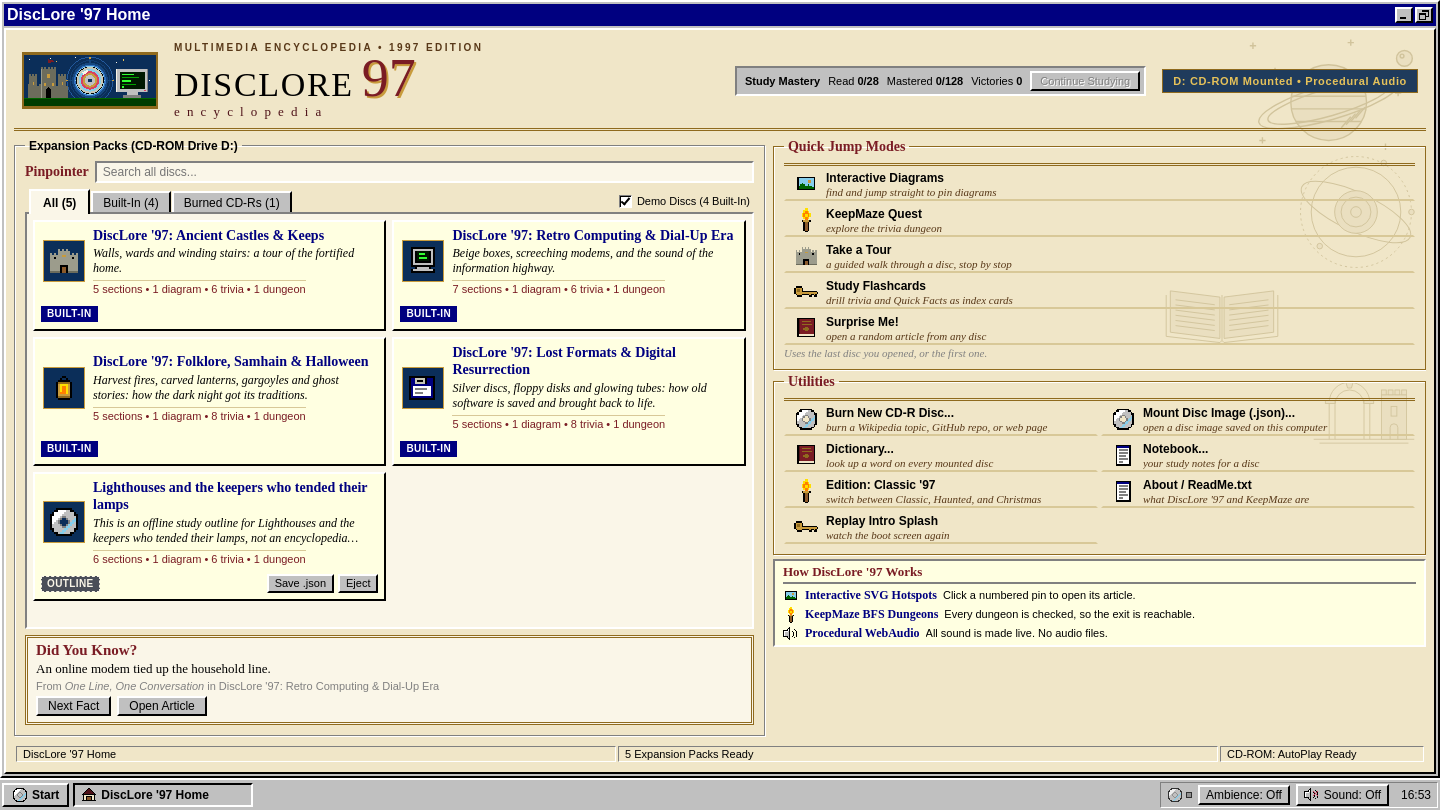
Test: turning Demo Discs off while a built-in disc is open › returns to Home from the View menu item, and forgets the built-in disc as the last one used
This screenshot has width=1440, height=810.
Click the text "DiscLore '97: Ancient Castles & Keeps".
click(209, 236)  # box [93, 228, 324, 244]
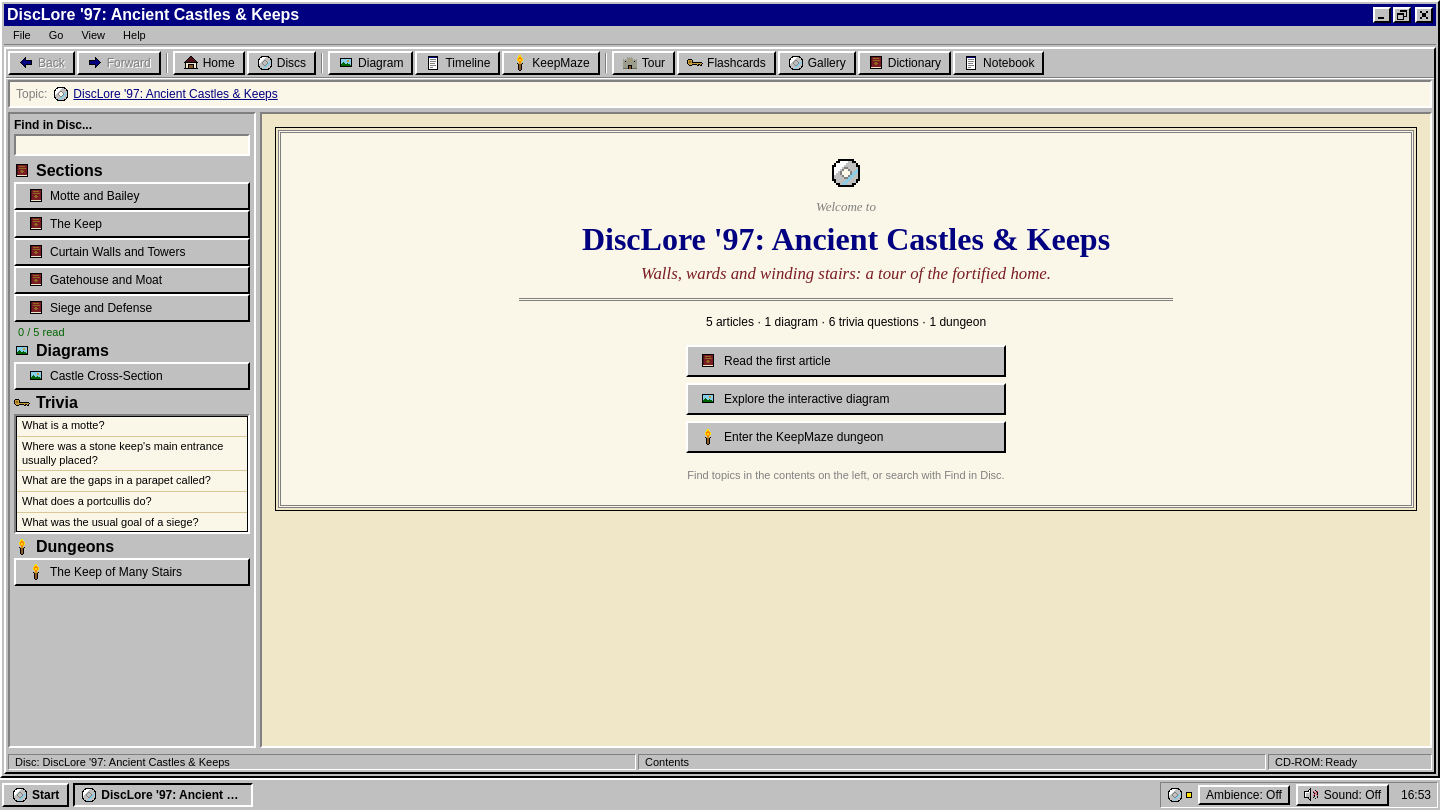
Click the menu item "View".
click(93, 35)  # box [72, 26, 114, 44]
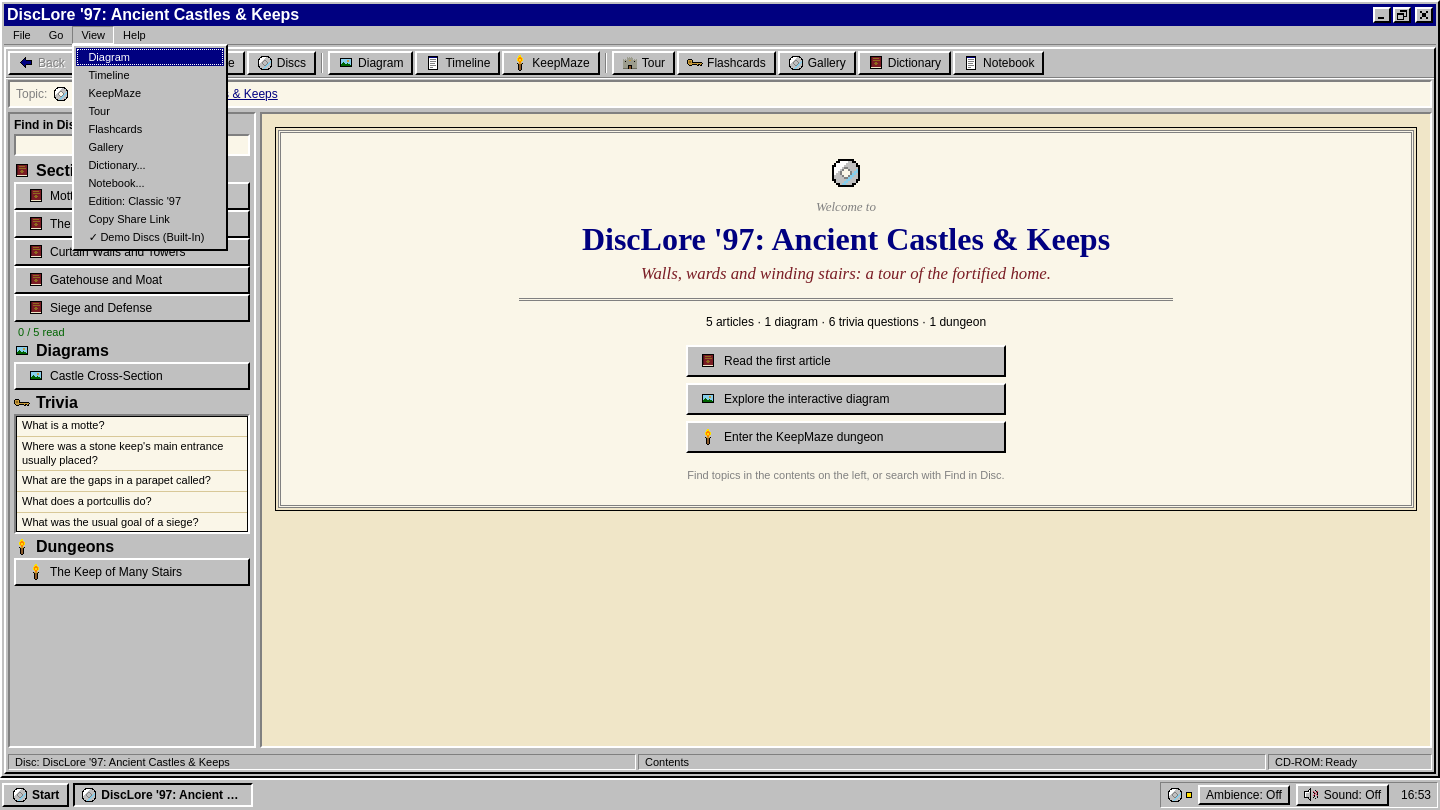
Click the menu item "✓ Demo Discs (Built-In)".
click(147, 237)  # box [89, 231, 204, 243]
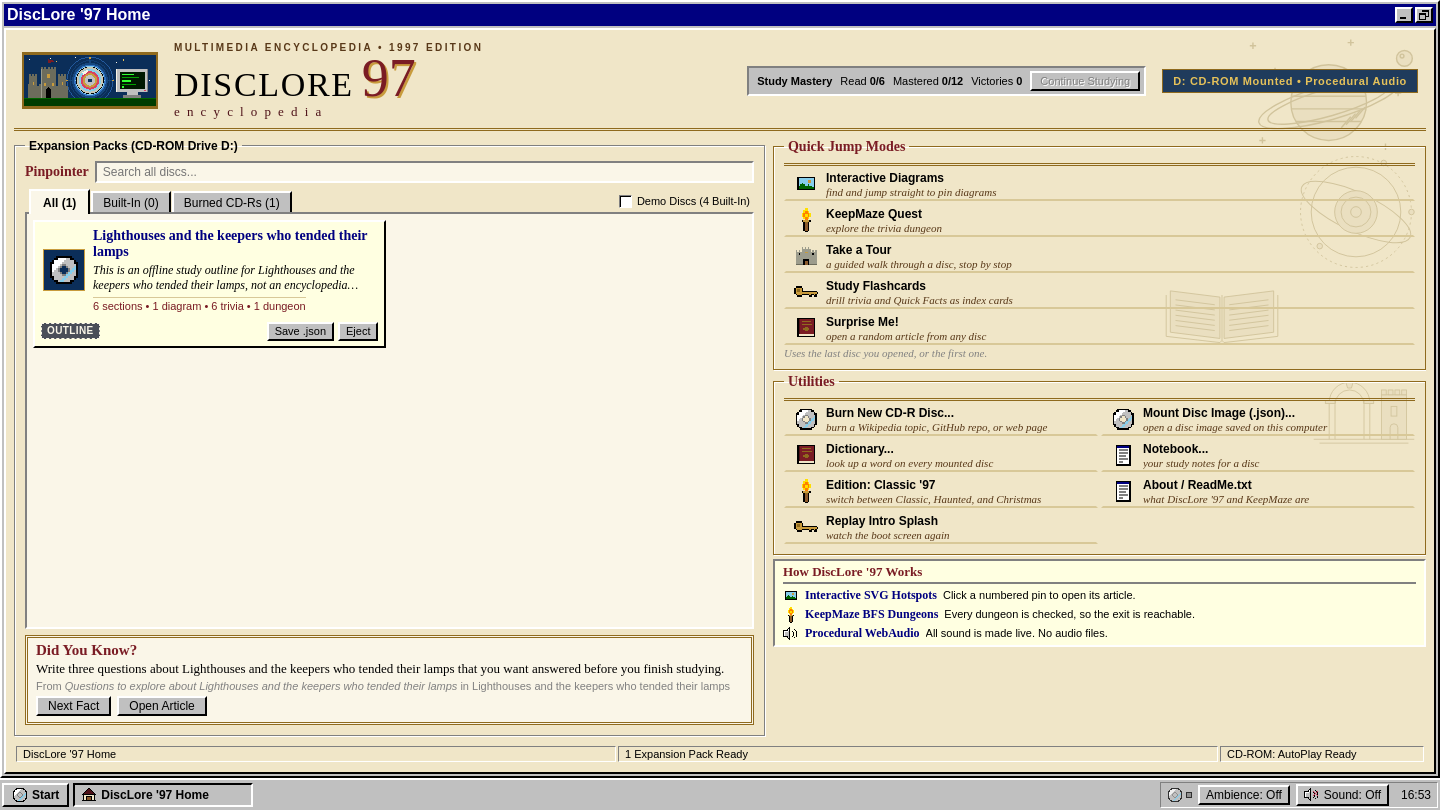
Expected: the dialog with class "disc-window" is gone
Expected: the dialog with class "home-window" is shown
Expected: the checkbox labelled "Demo Discs (4 Built-In)" is not checked, [619, 195, 632, 208]
Note: "The last disc you opened" no longer points at Castles: a Quick Jump uses the burned disc.
Click the button "Take a Tour a guided walk through a disc, stop by stop".
click(859, 250)  # box [784, 240, 1415, 273]
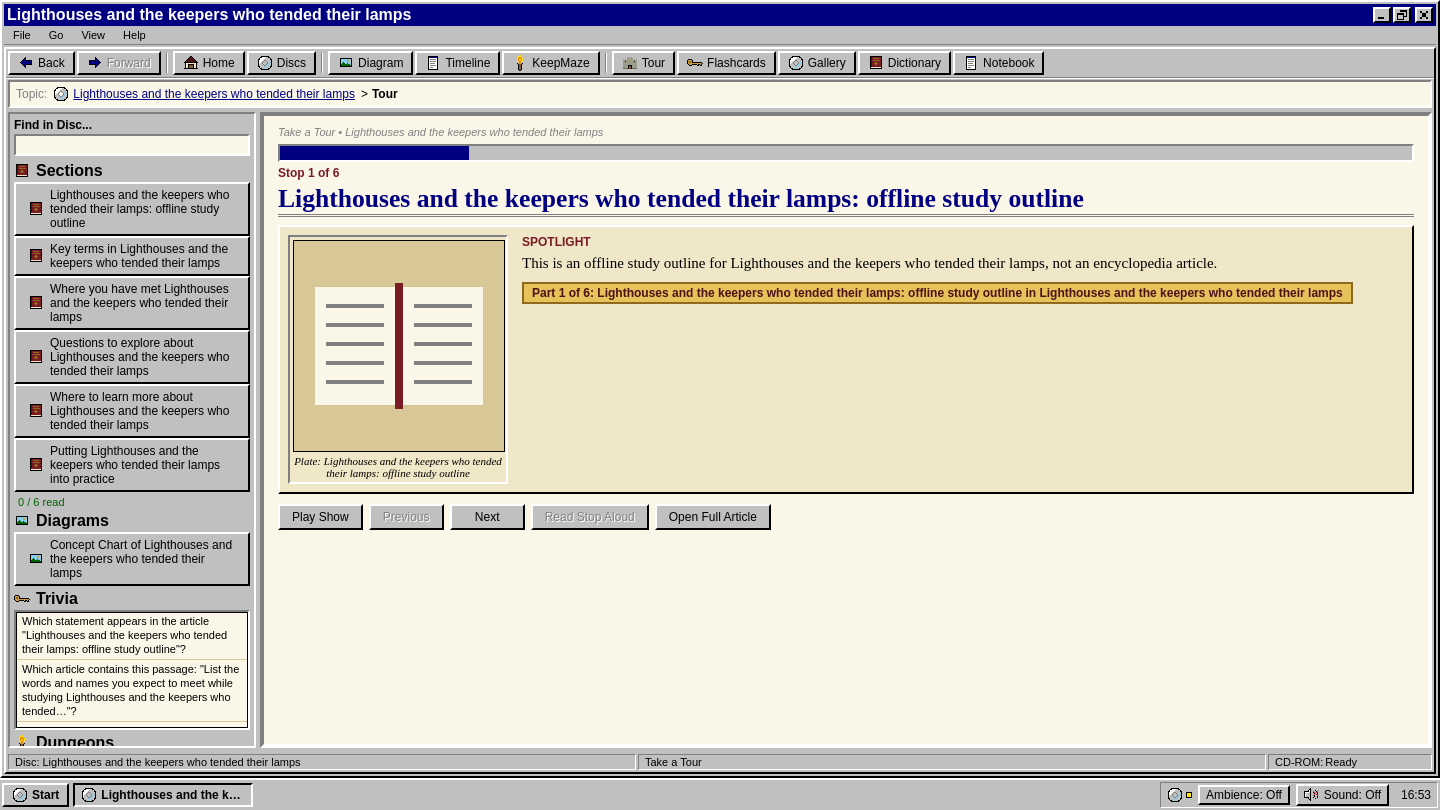
Expected: the dialog with class "disc-window" is shown
Expected: the text with class "window-title-text" reads "Lighthouses and the keepers who tended their lamps", [104, 8, 412, 23]
Expected: the element "Take a Tour" is shown
